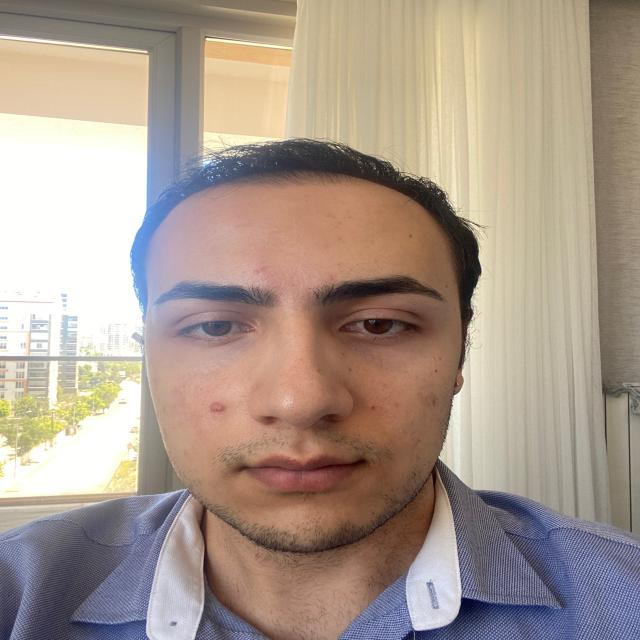acne: (280, 366, 322, 418), (208, 400, 228, 414), (422, 393, 440, 408), (250, 264, 270, 276), (394, 400, 402, 408), (368, 404, 376, 410)
pores: (195, 383, 239, 421), (368, 380, 396, 421)
